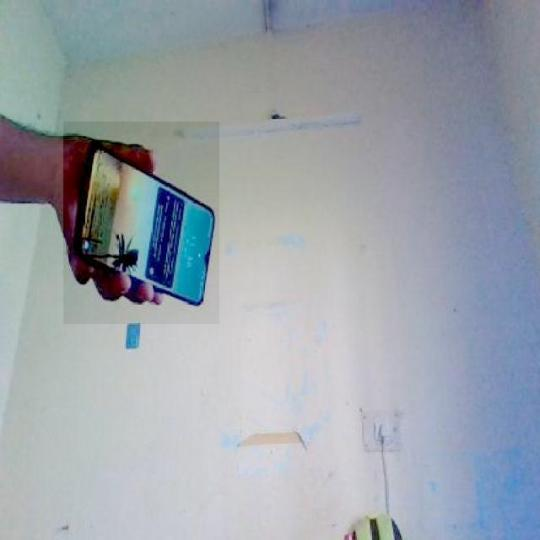phone: (74, 145, 217, 311)
